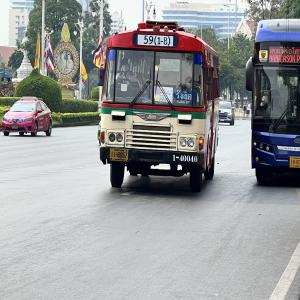BMTA-bus: (97, 21, 221, 194)
Bus Line Number: (134, 32, 179, 49)
Bus Side Number: (170, 153, 200, 165)
Destination Sign: (173, 88, 198, 107)
TSB-Bus: (245, 18, 300, 188)
